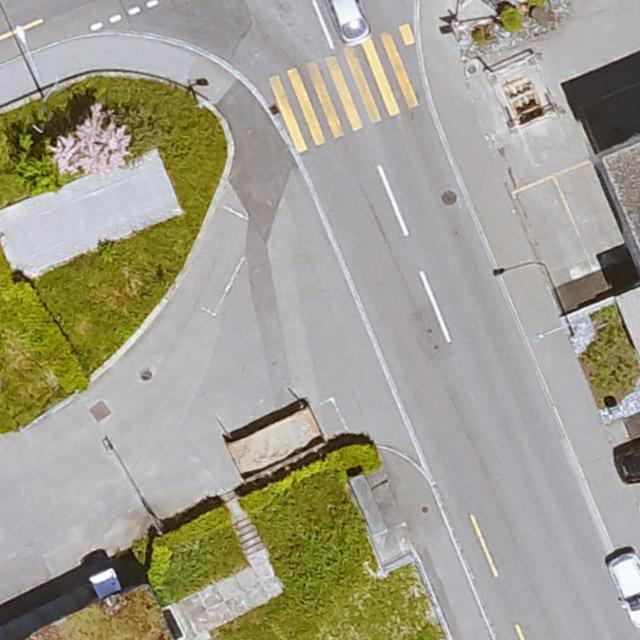tree: (58, 111, 122, 178), (5, 134, 64, 190)
